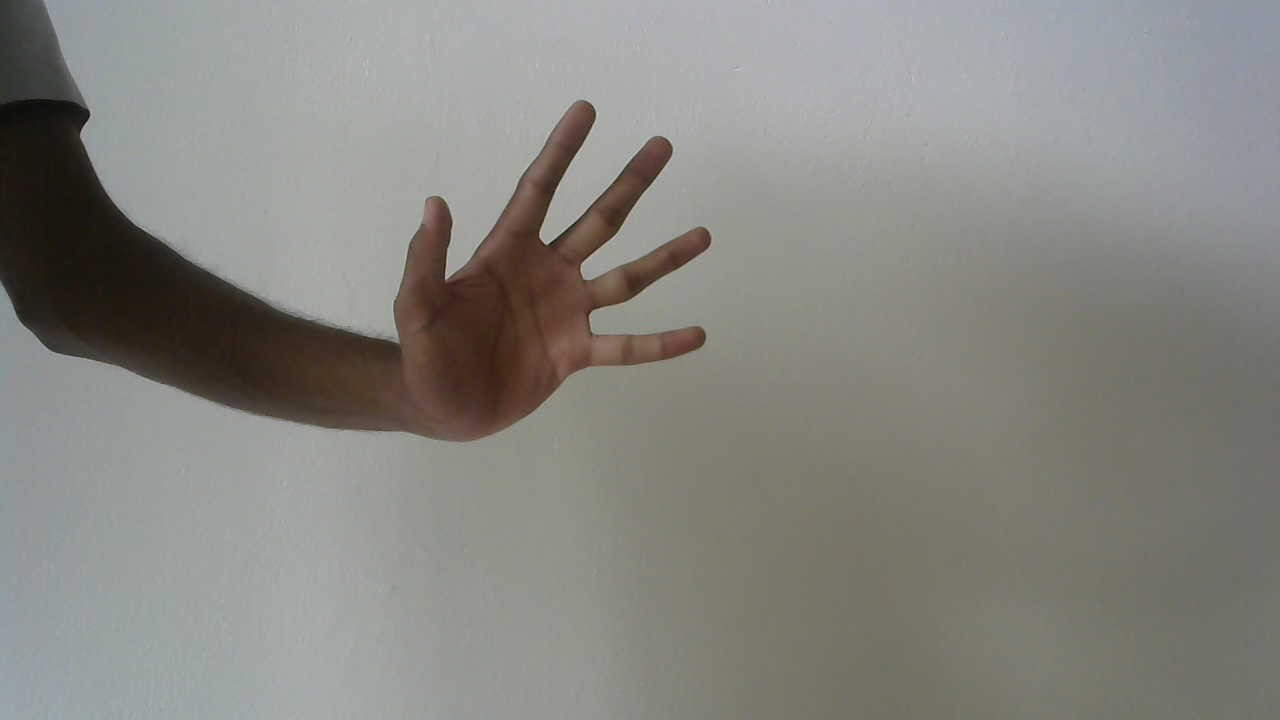hello: (389, 96, 718, 444)
